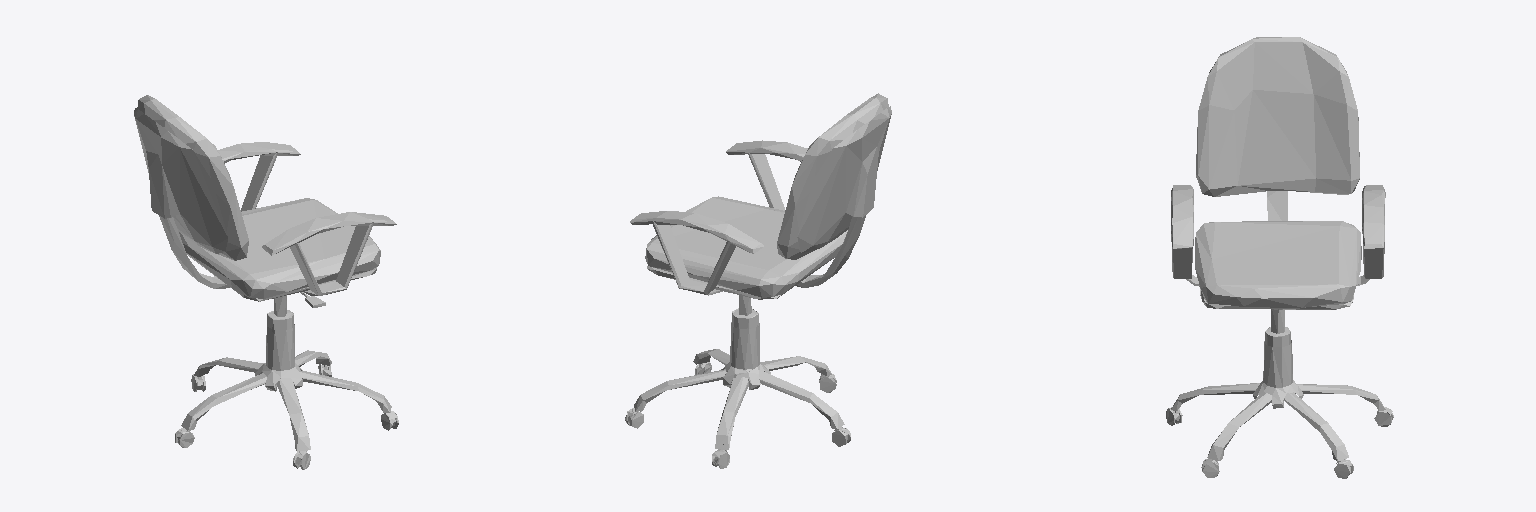
The model's file is cadeira5.obj.
The picture shows the model from 3 angles: view 1: azimuth 30°, elevation 25°; view 2: azimuth 150°, elevation 25°; view 3: azimuth 270°, elevation 25°; orthographic projection.
Parts seen in each view (by area): view 1: Chair.002_Chair.005; view 2: Chair.002_Chair.005; view 3: Chair.002_Chair.005.
Boxes of the visible parts, x1,y1,x2,y2 form: Chair.002_Chair.005: [134, 95, 398, 469]; Chair.002_Chair.005: [625, 93, 891, 468]; Chair.002_Chair.005: [1166, 37, 1393, 478].
Size of the model in its own units: 4.93 by 7.52 by 4.52.